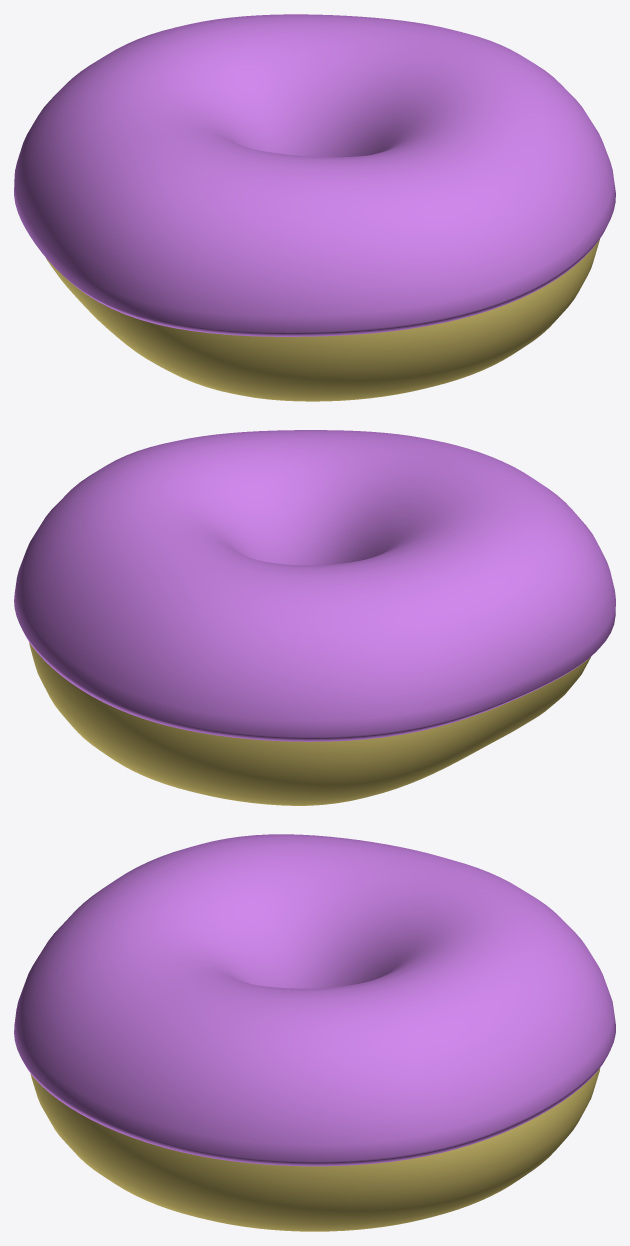
File: DonutExample2.fbx
3 renders of one model, top to bottom at view 1: azimuth 30°, elevation 25°; view 2: azimuth 150°, elevation 25°; view 3: azimuth 270°, elevation 25°, orthographic.
Parts seen in each view (by area): view 1: Icing, Torus.001; view 2: Icing, Torus.001; view 3: Icing, Torus.001.
Boxes of the visible parts, bbox=[...] form: Icing: bbox=[14, 14, 615, 336]; Torus.001: bbox=[46, 239, 599, 401]; Icing: bbox=[14, 430, 615, 741]; Torus.001: bbox=[29, 642, 590, 805]; Icing: bbox=[14, 834, 615, 1166]; Torus.001: bbox=[30, 1068, 600, 1231].
Bounding box in the file's own units: 0.1027 × 0.0423 × 0.1026.
